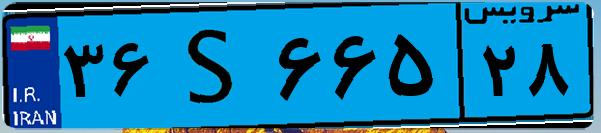2: (475, 38, 525, 113)
3: (57, 26, 110, 100)
5: (385, 28, 445, 110)
6: (270, 28, 330, 110), (330, 28, 385, 110), (110, 28, 158, 98)
8: (525, 38, 570, 115)
S: (158, 12, 270, 120)
